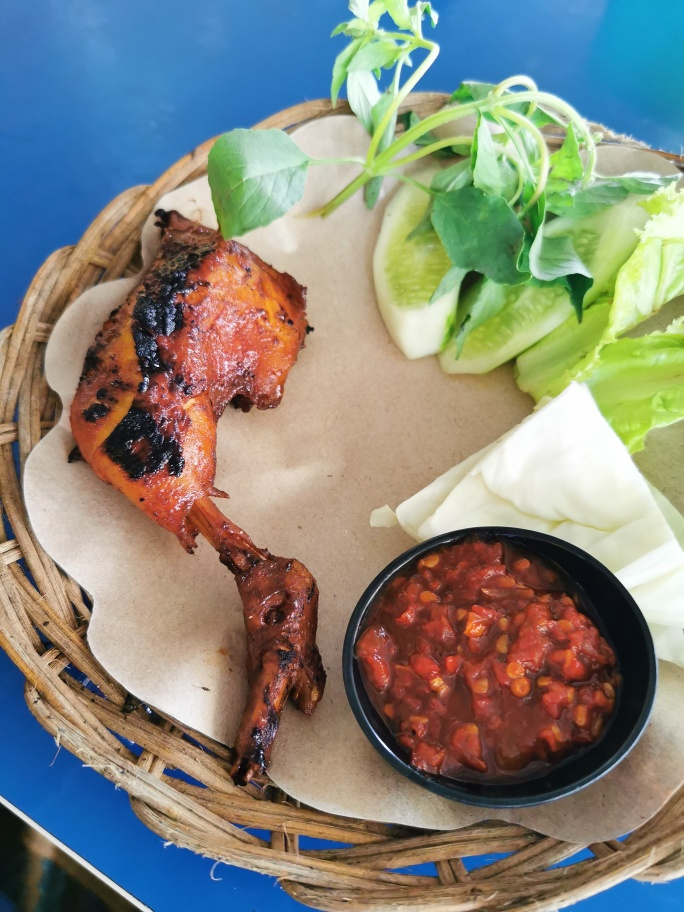ayam bakar: (58, 189, 349, 786)
